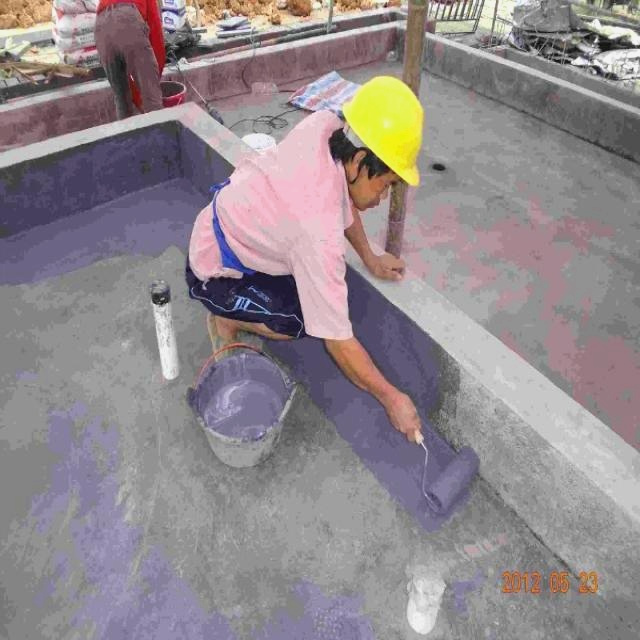Con_Casco: (343, 76, 421, 204)
